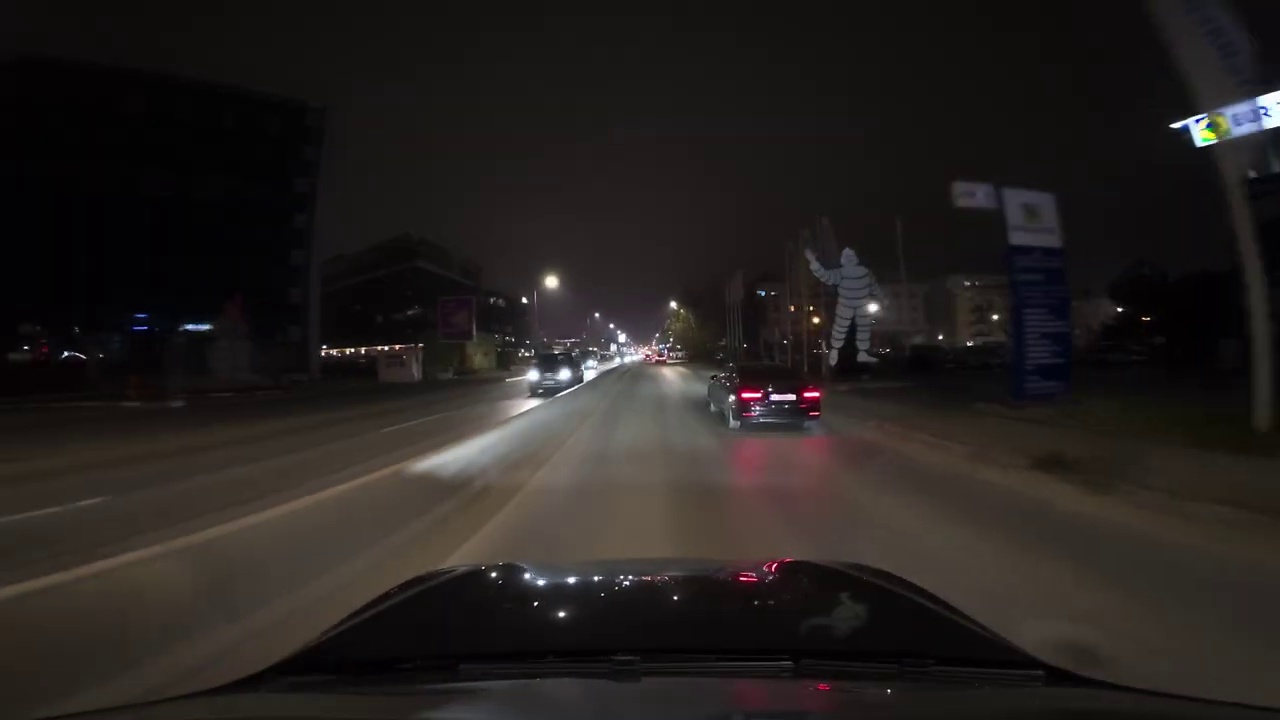acesa: (540, 270, 564, 295)
